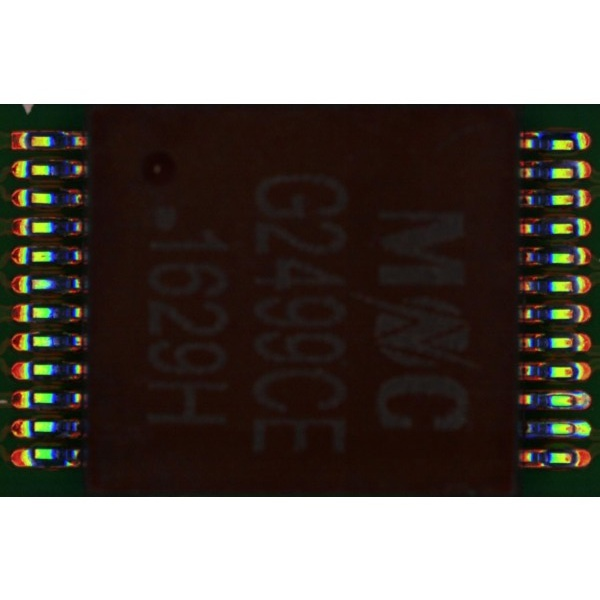Bad_qiaojiao: (543, 405, 574, 410), (545, 391, 573, 395)
